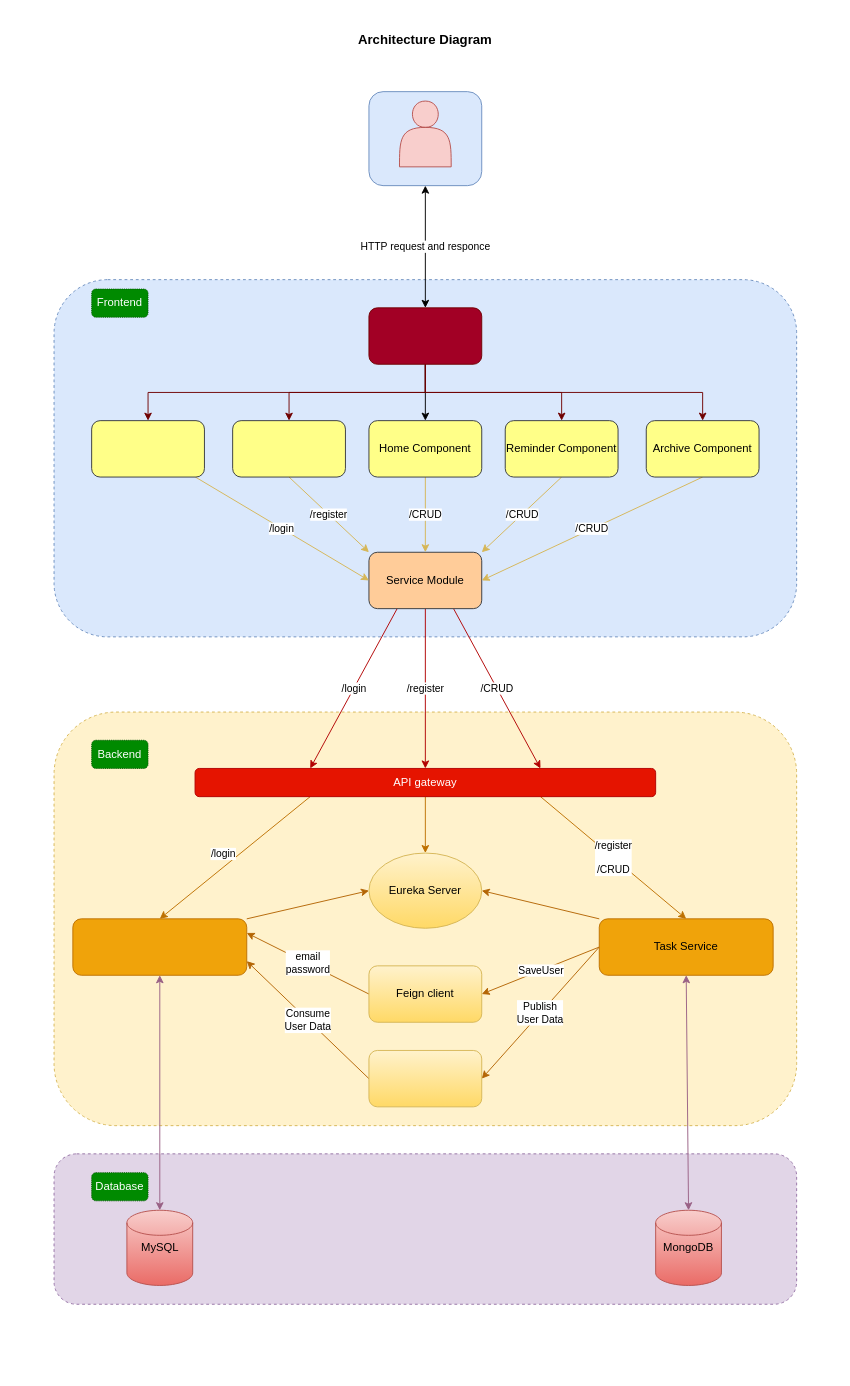
Image size: 850x1386. Some labels were removed from this diagram. The centre of each missing label's shape, as x and y in pixels:
"App Component" belongs at (x=425, y=335).
"Login Component" belongs at (x=147, y=448).
"Rabbit MQ" belongs at (x=425, y=1078).
"Register Component" belongs at (x=288, y=448).
"User" belongs at (x=425, y=133).
"User Authentication Service" belongs at (x=159, y=946).
